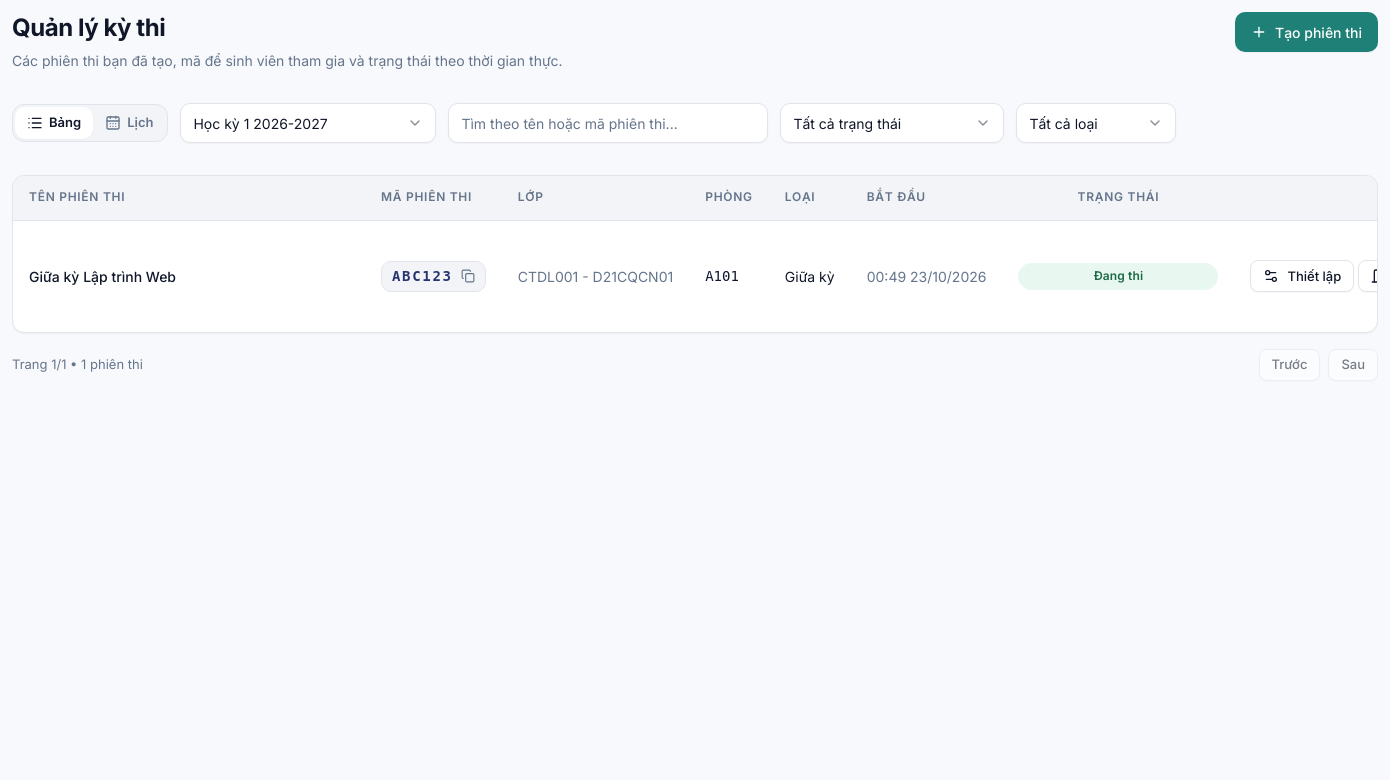
Scenario: ExamSessionsListPage — chế độ xem lịch › hai phiên cách nhau dưới 30 phút được gắn cờ ngay trên thẻ
Click the button "Lịch" at (129, 123), box [93,107,165,139]
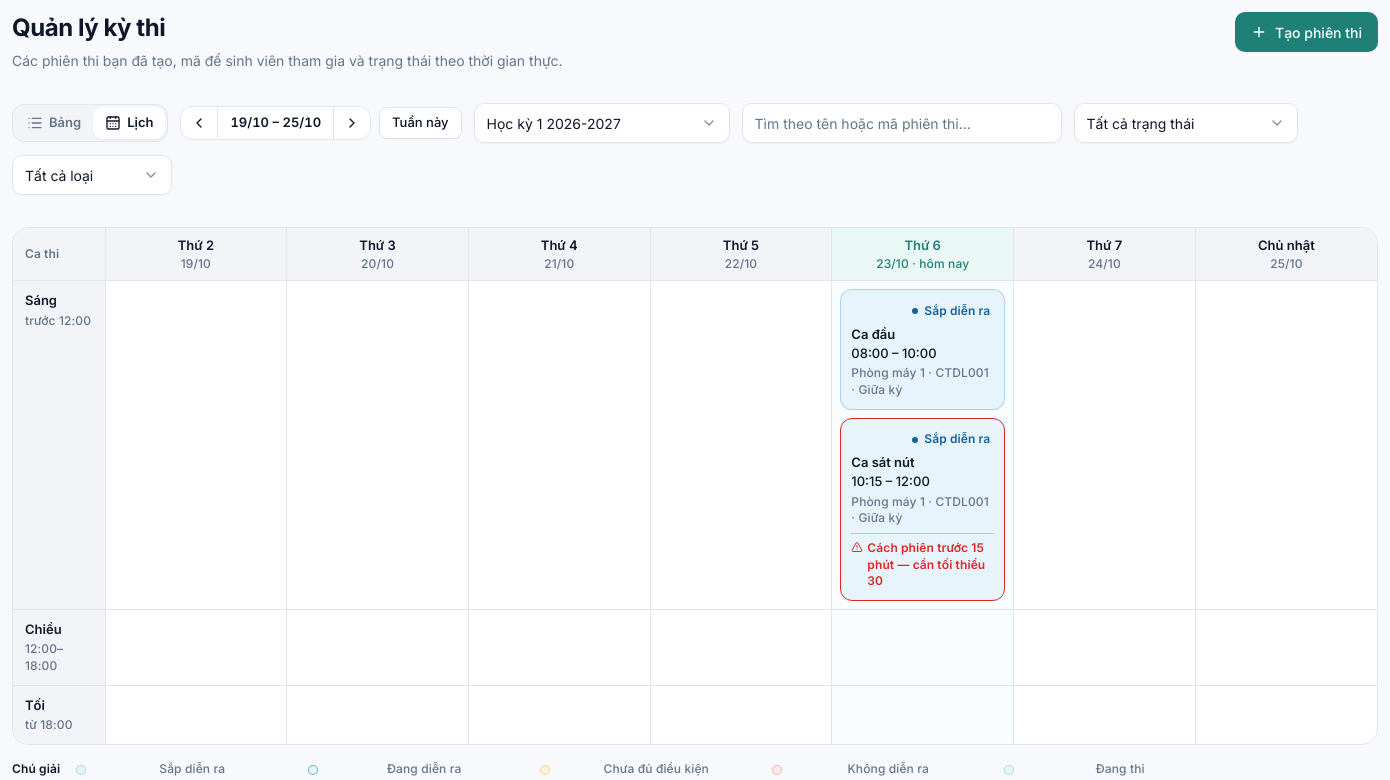
Expected: the text "Cách phiên trước 15 phút — cần tối thiểu 30" is shown, [867,540,994,590]
